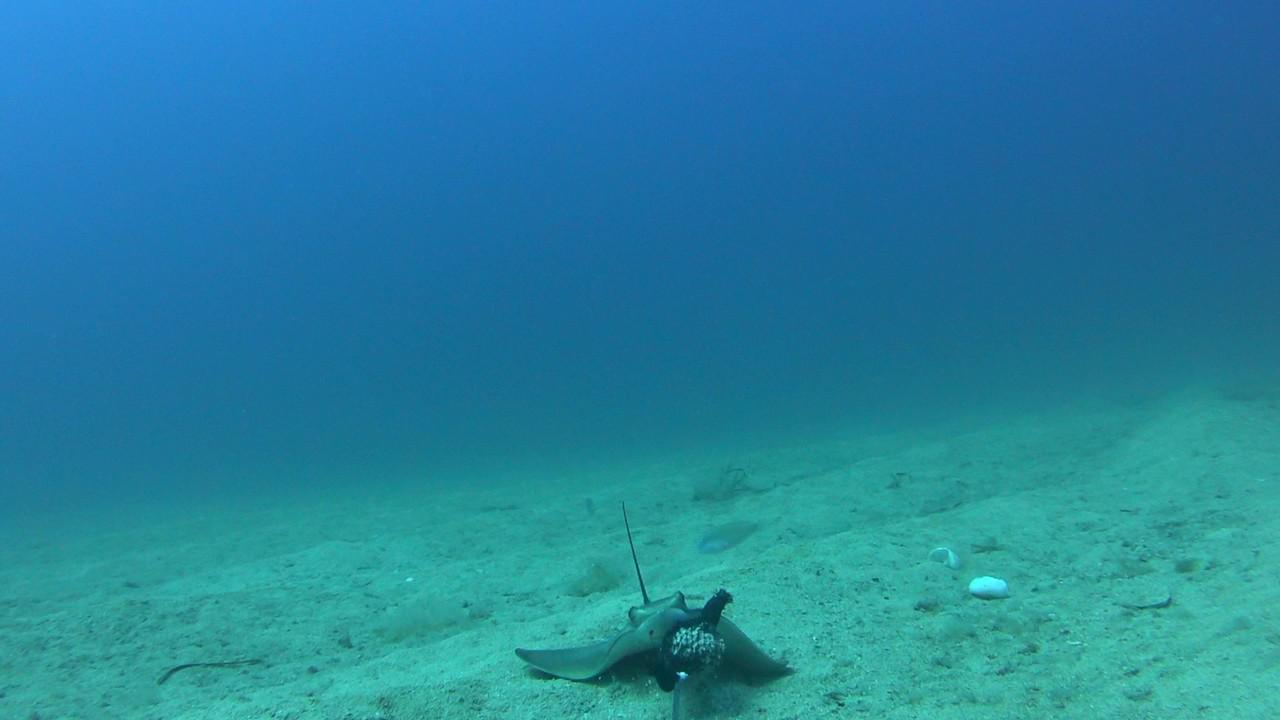myliobatis: (478, 485, 818, 694)
raor: (694, 509, 782, 558)
